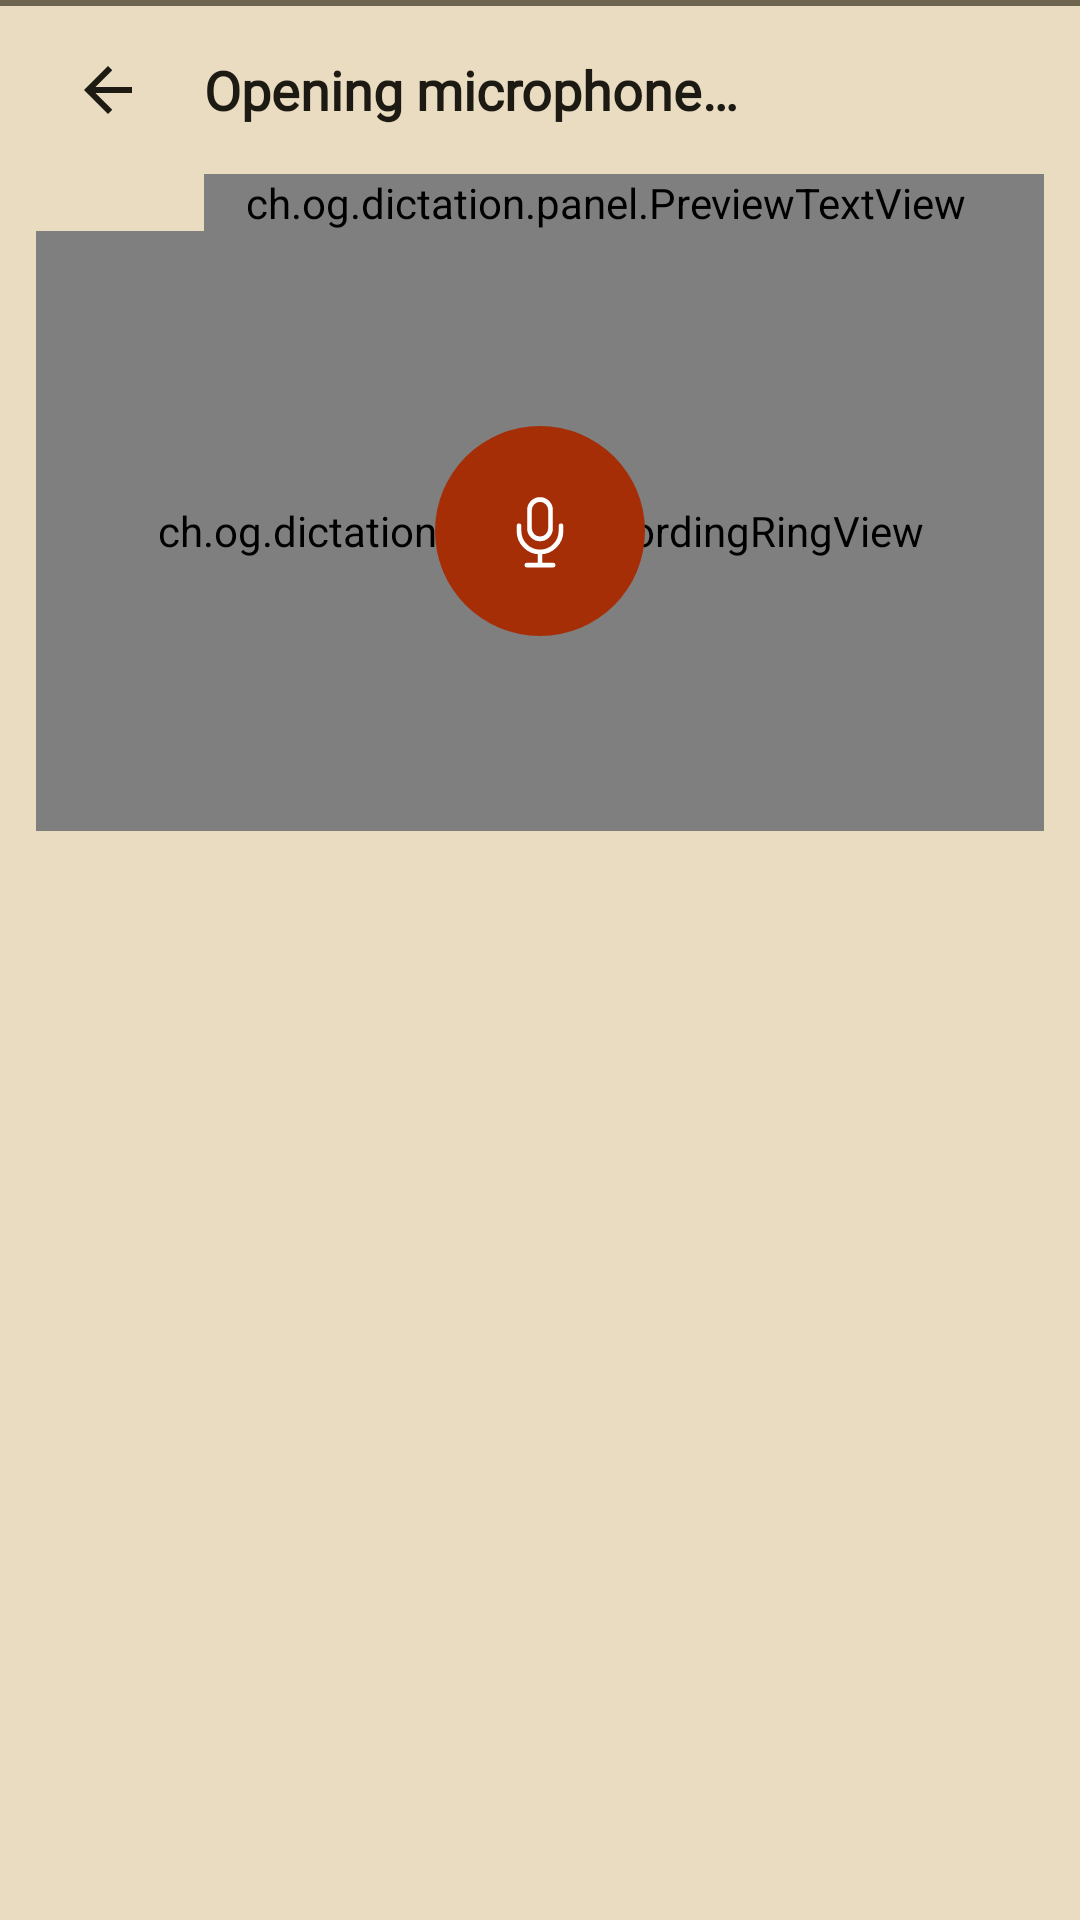

Where icons sit on this 1080×1920 app screen, as bbox=[x1, y1, x2, y2]:
Back to keyboard: bbox=[84, 66, 132, 114]
Stop recording: bbox=[435, 426, 645, 636]
